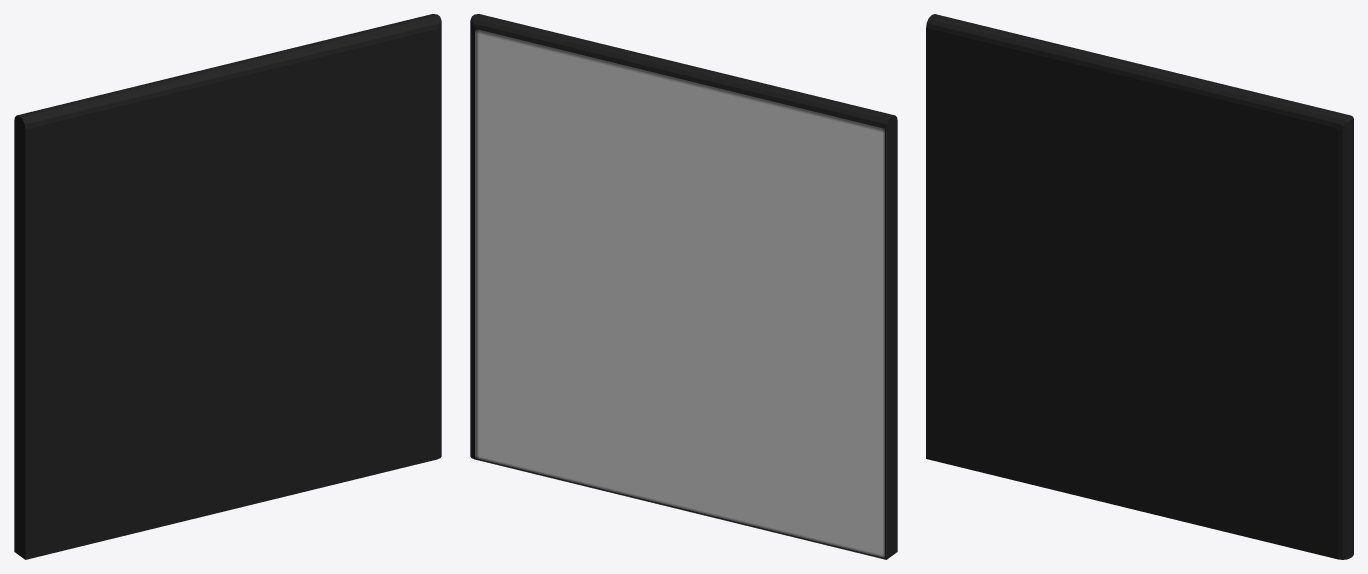
3 renders of one model, left to right at view 1: azimuth 30°, elevation 25°; view 2: azimuth 150°, elevation 25°; view 3: azimuth 330°, elevation 25°, orthographic.
Visible parts, largest first — view 1: Go; view 2: Go; view 3: Go.
Boxes of the visible parts, bbox=[...] form: Go: bbox=[14, 14, 441, 559]; Go: bbox=[470, 14, 897, 559]; Go: bbox=[926, 14, 1353, 559].
Bounding box in the file's own units: 26 × 26 × 1.2.
